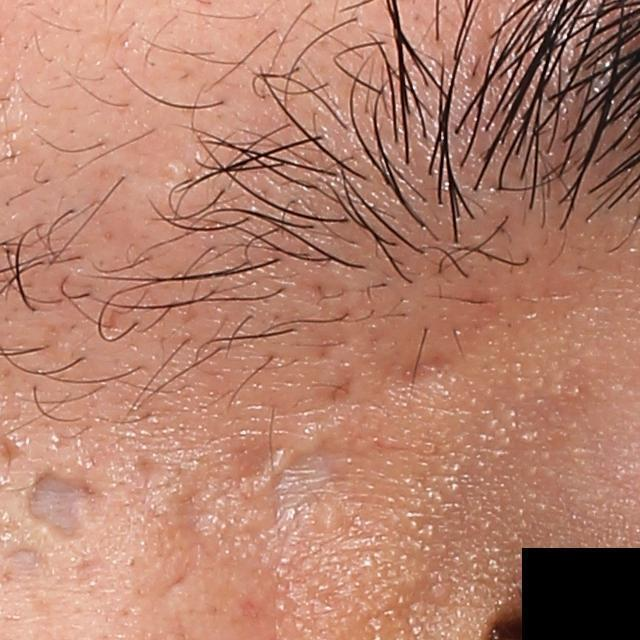atrophic_scar: (266, 434, 348, 532), (25, 460, 112, 546), (178, 484, 226, 546), (130, 454, 161, 489), (12, 545, 47, 566)
